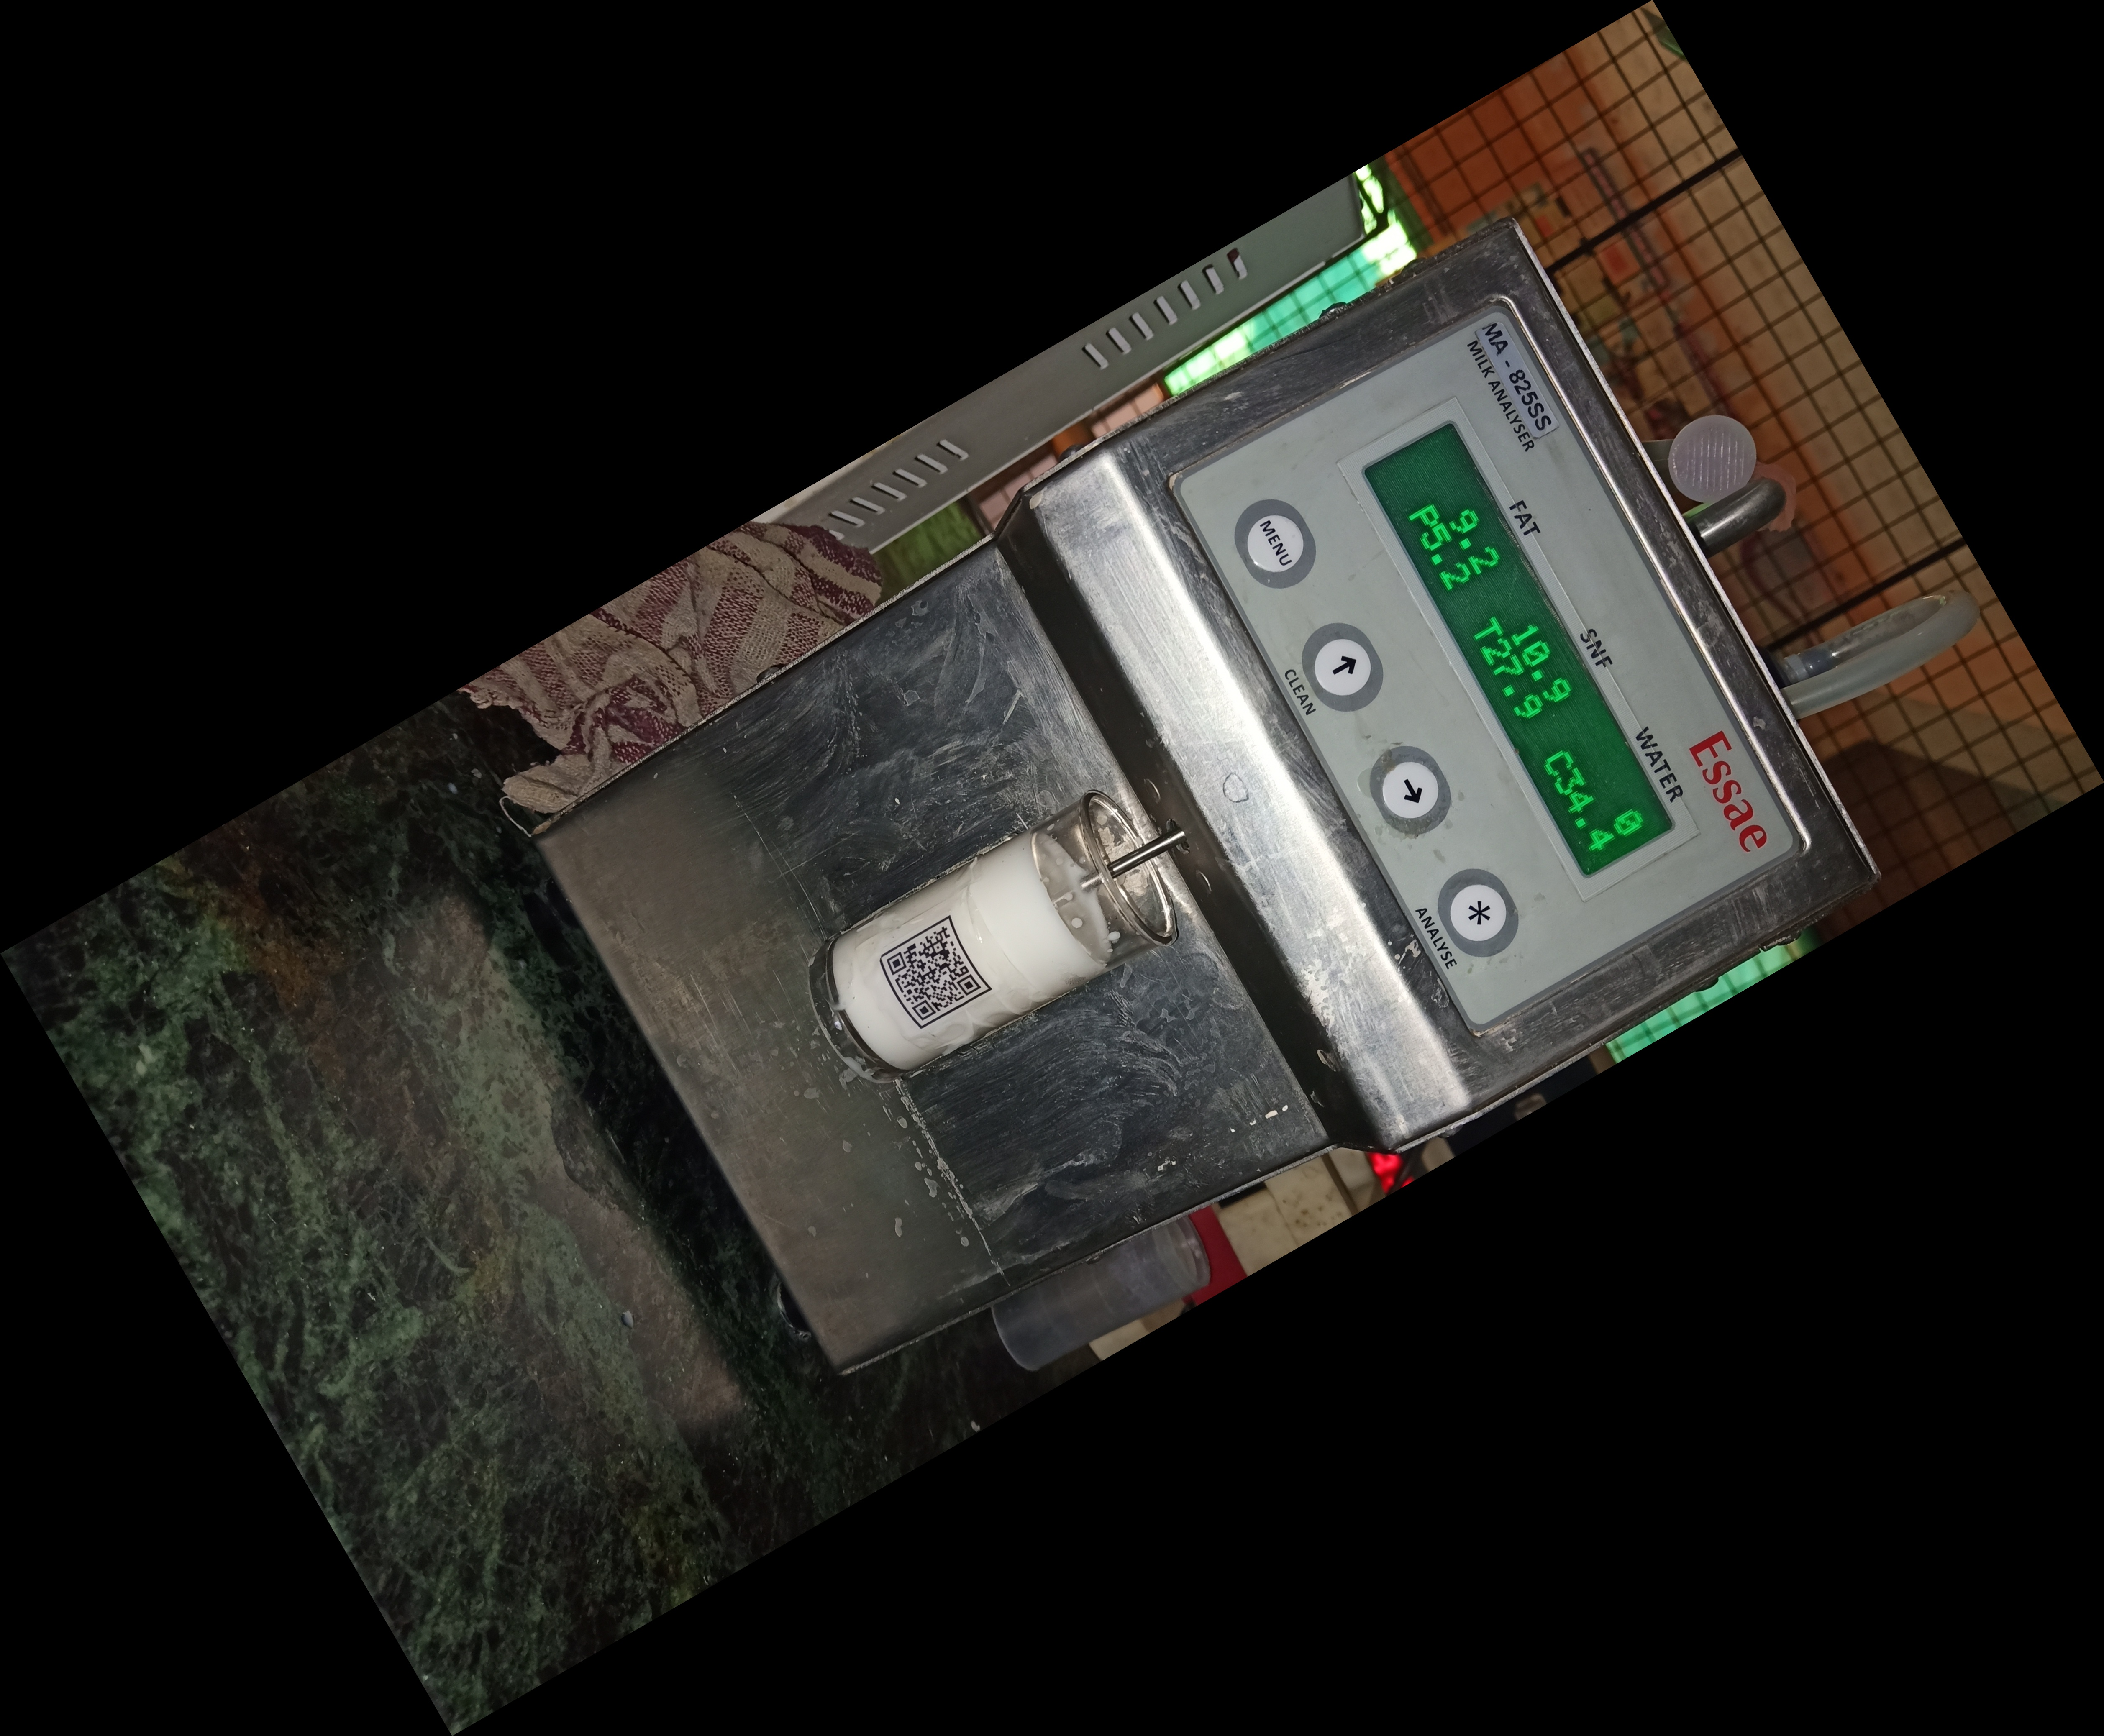lcd: (1351, 402, 1697, 878)
qr: (867, 905, 994, 1029)
